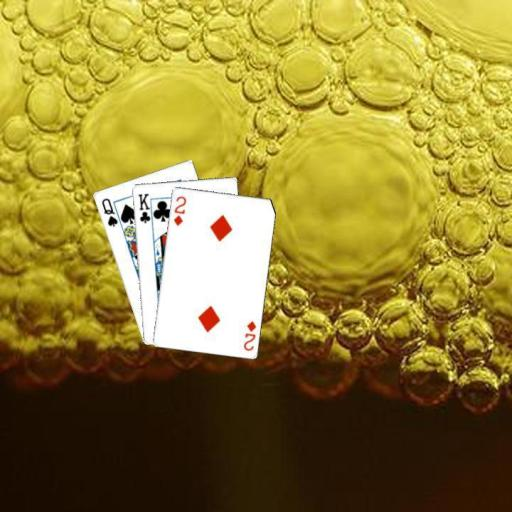card-corner: (135, 190, 154, 227), (98, 195, 119, 228), (240, 318, 258, 352), (171, 193, 187, 227)
